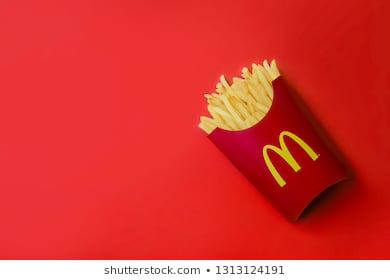mcdonalds: (260, 128, 321, 190)
